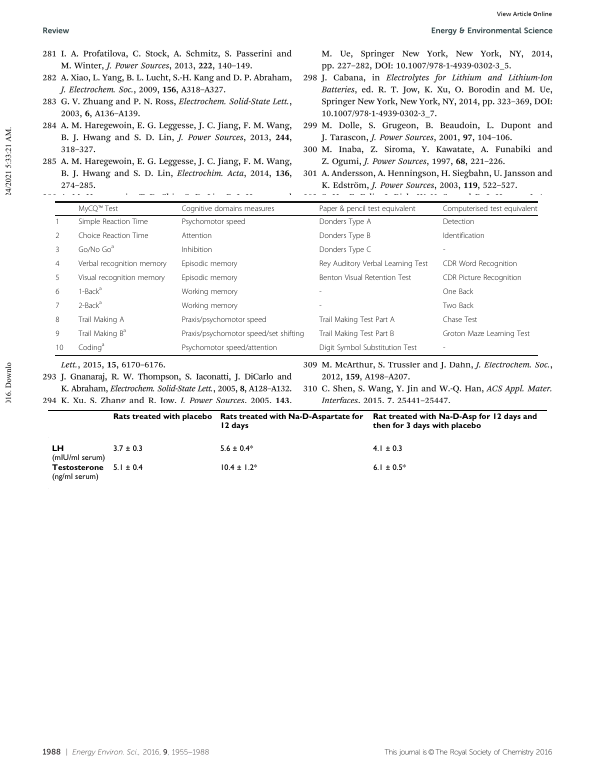borderless: (55, 200, 538, 355), (46, 408, 548, 490)
cell: (372, 413, 537, 431), (219, 413, 364, 431), (181, 329, 305, 339), (318, 259, 429, 269), (50, 444, 106, 463), (318, 343, 418, 353), (50, 464, 104, 482), (181, 343, 278, 353), (318, 273, 412, 283), (112, 413, 213, 422), (77, 259, 167, 269), (77, 273, 166, 283), (442, 329, 531, 339), (318, 204, 416, 213), (442, 204, 538, 213), (181, 315, 267, 325), (181, 204, 275, 213), (442, 273, 523, 283), (318, 315, 396, 325), (318, 329, 395, 339), (442, 259, 518, 269), (77, 217, 149, 227), (77, 231, 149, 241), (181, 217, 246, 227), (77, 327, 127, 339), (181, 287, 239, 297), (181, 301, 239, 311), (181, 259, 238, 269), (181, 273, 238, 283), (318, 217, 372, 227), (318, 245, 372, 255), (318, 231, 371, 241), (77, 315, 125, 325), (77, 243, 115, 255), (442, 231, 485, 241), (219, 463, 258, 473), (77, 204, 119, 213), (442, 315, 478, 325), (219, 444, 254, 454), (372, 463, 406, 473), (77, 341, 105, 353), (442, 217, 475, 227), (181, 231, 213, 241), (181, 245, 213, 255), (442, 287, 474, 297), (442, 301, 474, 311), (77, 285, 103, 297), (77, 299, 103, 311), (112, 444, 143, 454), (372, 444, 403, 454), (112, 463, 143, 473), (55, 343, 64, 353), (54, 217, 60, 227), (54, 231, 60, 241), (54, 245, 60, 255), (55, 259, 60, 269), (55, 273, 60, 283), (55, 287, 60, 297), (318, 287, 323, 297), (55, 301, 60, 311), (318, 301, 323, 311), (55, 315, 60, 325), (55, 329, 60, 339), (442, 245, 446, 255), (442, 343, 446, 353)
